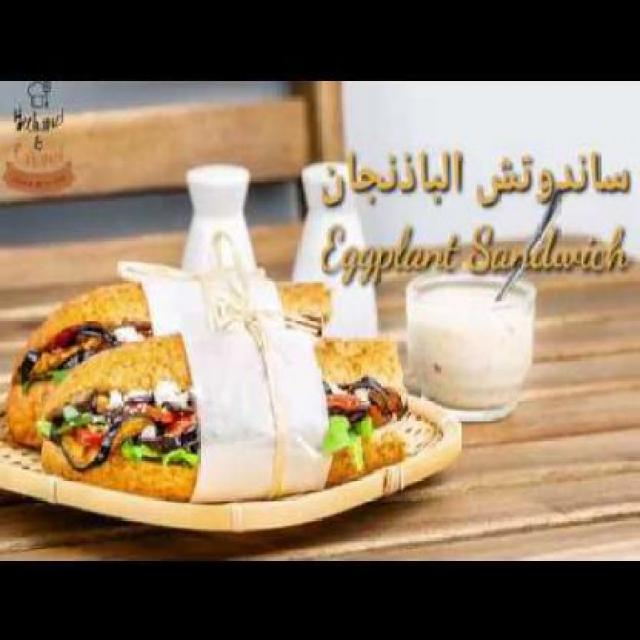eggplant: (39, 373, 396, 470), (12, 321, 112, 377)
hummus: (396, 263, 546, 412), (107, 376, 195, 404), (109, 318, 142, 340)
